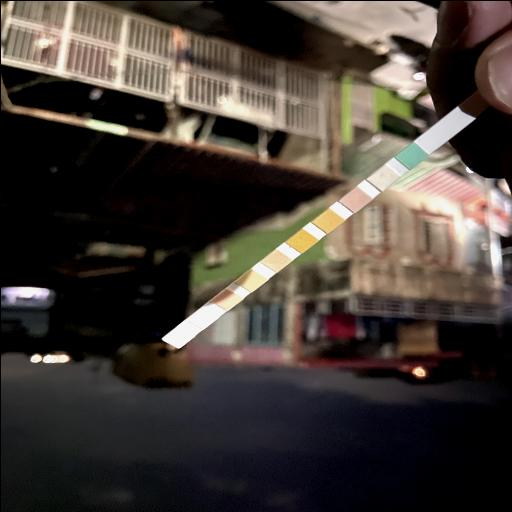Bilirubin: (374, 171, 390, 183)
Blood: (292, 234, 310, 246)
Glucose: (403, 148, 419, 160)
Ketone: (348, 192, 364, 206)
Leukocytes: (170, 331, 187, 341)
Nitrite: (195, 312, 210, 324)
Protein: (242, 274, 260, 286)
SpGravity: (319, 214, 336, 226)
Urobilinogen: (219, 292, 235, 304)
pH: (268, 254, 284, 266)
strip: (161, 105, 474, 348)
